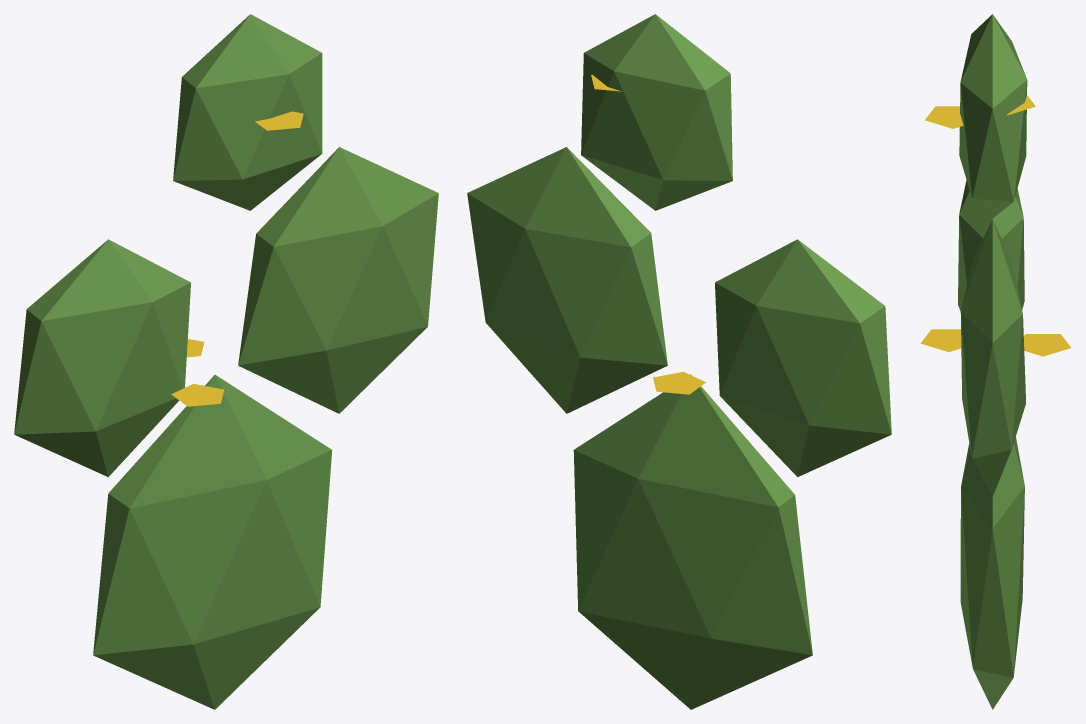
Rendered from cactus_raquette.glb.
The picture shows the model from 3 angles, left to right: view 1: azimuth 30°, elevation 25°; view 2: azimuth 150°, elevation 25°; view 3: azimuth 270°, elevation 25°; orthographic projection. The views are drawn at different scales.
Parts seen in each view (by area): view 1: cactus_raquette; view 2: cactus_raquette; view 3: cactus_raquette.
Boxes of the visible parts, <box> form: cactus_raquette: <box>14,14,438,709</box>; cactus_raquette: <box>467,14,891,709</box>; cactus_raquette: <box>920,14,1071,709</box>.
Size of the model in its own units: 1.2 by 1.85 by 0.3546.
Materials: 1 (1 with a texture image).
